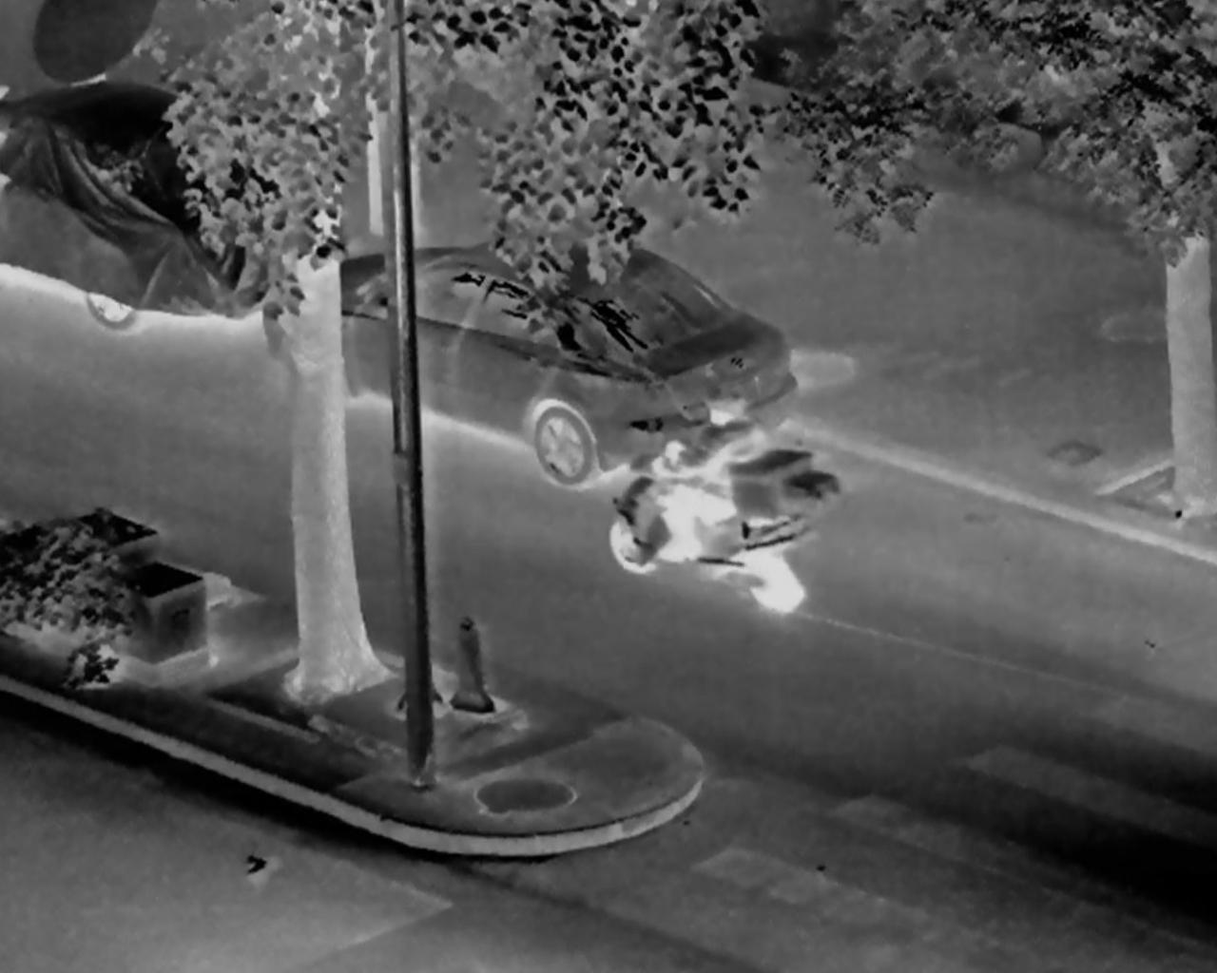person: (650, 387, 766, 562)
